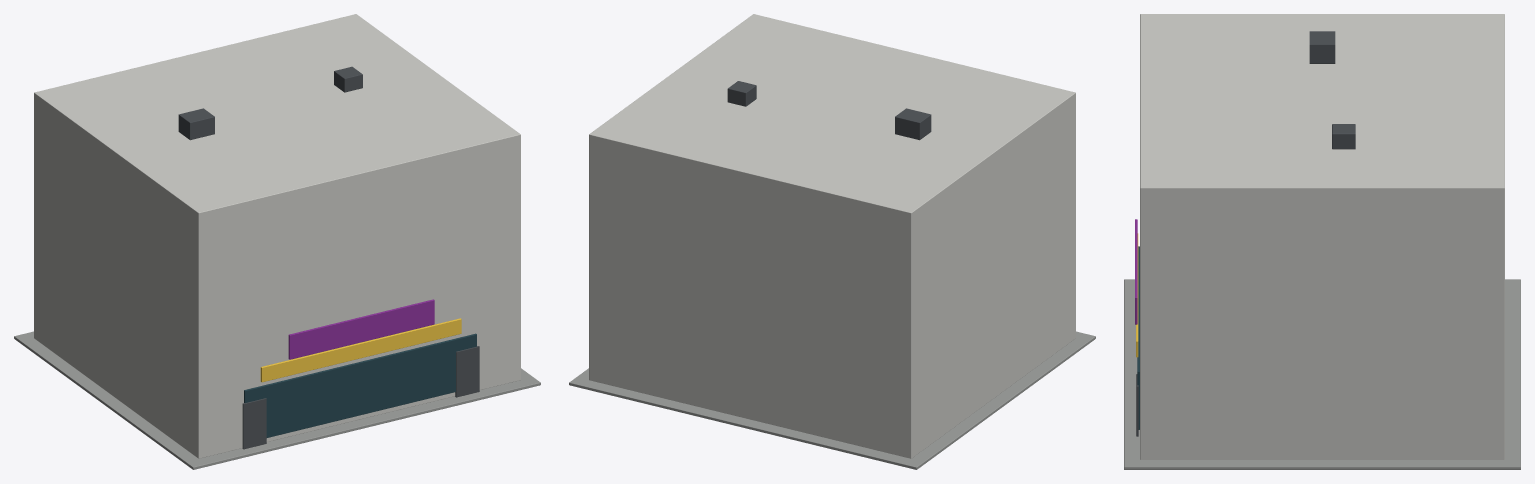
File: Building_Commercial_019.glb
3 renders of one model, left to right at view 1: azimuth 30°, elevation 25°; view 2: azimuth 150°, elevation 25°; view 3: azimuth 270°, elevation 25°, orthographic. The views are drawn at different scales.
Parts seen in each view (by area): view 1: Building_Commercial_019; view 2: Building_Commercial_019; view 3: Building_Commercial_019.
Part boxes in pixels (box(x1,y1,x2,y2)): Building_Commercial_019: box(14, 14, 540, 469); Building_Commercial_019: box(569, 14, 1095, 469); Building_Commercial_019: box(1124, 14, 1520, 469).
Bounding box in the file's own units: 20.72 × 15.16 × 18.5.
